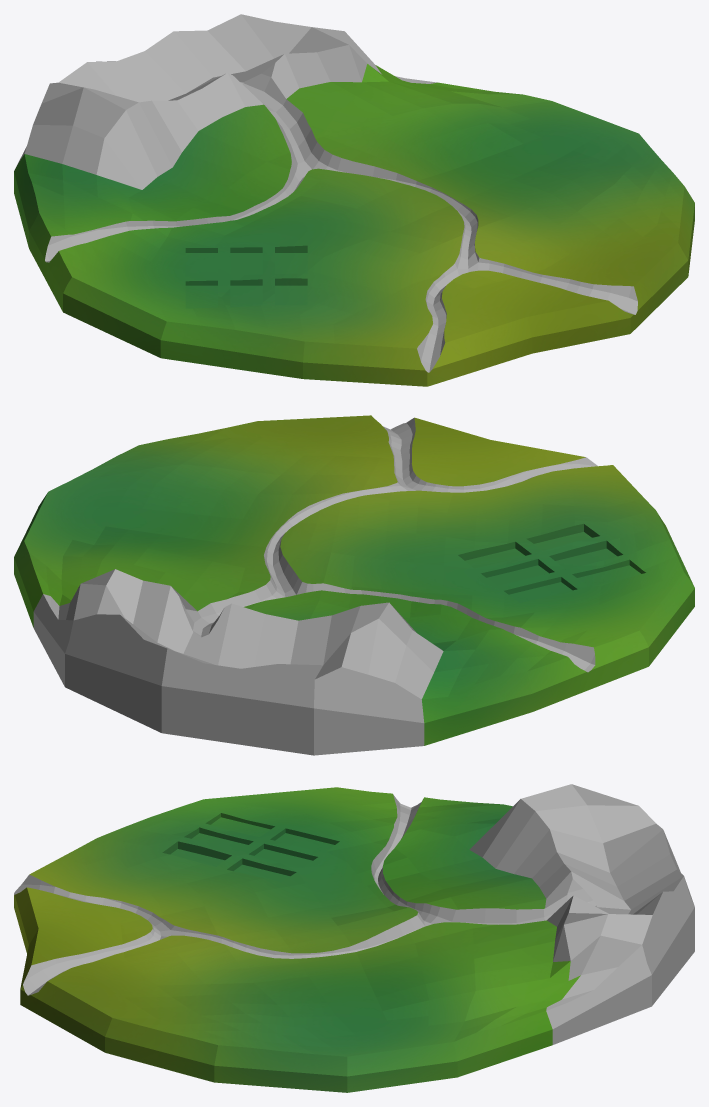
Rendered from S_Island.fbx.
The picture shows the model from 3 angles, top to bottom: view 1: azimuth 30°, elevation 25°; view 2: azimuth 150°, elevation 25°; view 3: azimuth 270°, elevation 25°; orthographic projection. The views are drawn at different scales.
Parts seen in each view (by area): view 1: Top_Island_without_mod.001; view 2: Top_Island_without_mod.001; view 3: Top_Island_without_mod.001.
Part boxes in pixels (x1,y1,x2,y2): Top_Island_without_mod.001: [14, 14, 694, 386]; Top_Island_without_mod.001: [14, 415, 694, 755]; Top_Island_without_mod.001: [14, 784, 694, 1092].
Size of the model in its own units: 16768 by 2751 by 17356.
